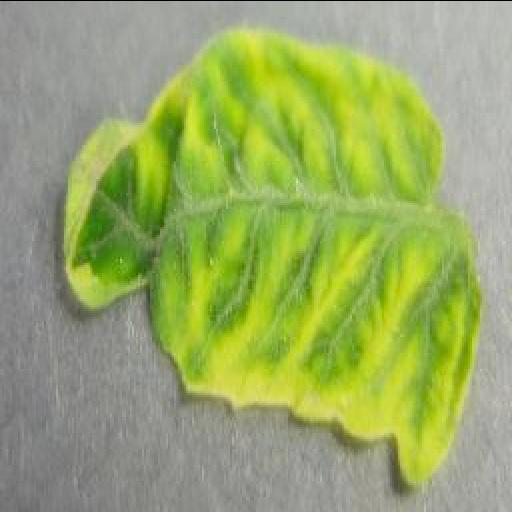disease_tomato: (62, 27, 490, 489)
